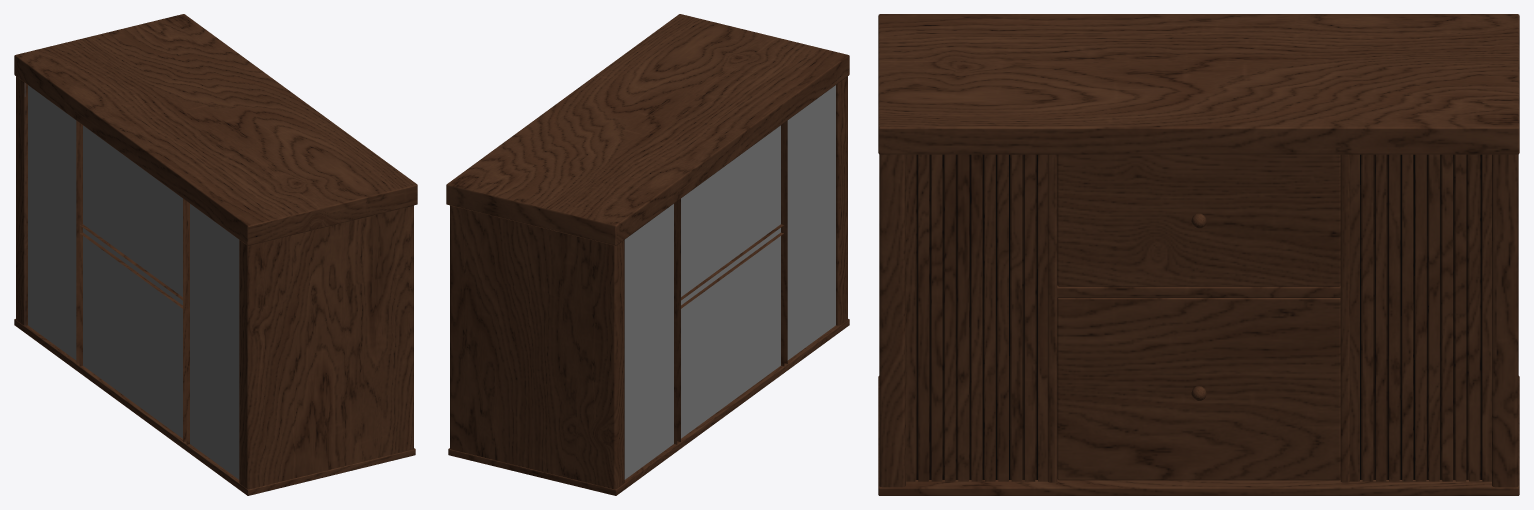
Rendered from EscritorioPatron_v2.glb.
3 renders of one model, left to right at view 1: azimuth 30°, elevation 25°; view 2: azimuth 150°, elevation 25°; view 3: azimuth 270°, elevation 25°, orthographic. The views are drawn at different scales.
Visible parts, largest first — view 1: EscritorioPatron_v2_GEO; view 2: EscritorioPatron_v2_GEO; view 3: EscritorioPatron_v2_GEO.
Boxes of the visible parts, x1,y1,x2,y2 form: EscritorioPatron_v2_GEO: [14, 14, 417, 495]; EscritorioPatron_v2_GEO: [446, 14, 849, 495]; EscritorioPatron_v2_GEO: [878, 14, 1519, 495].
Bounding box in the file's own units: 0.3465 × 0.5246 × 0.8229.
1 material, 1 textured.
